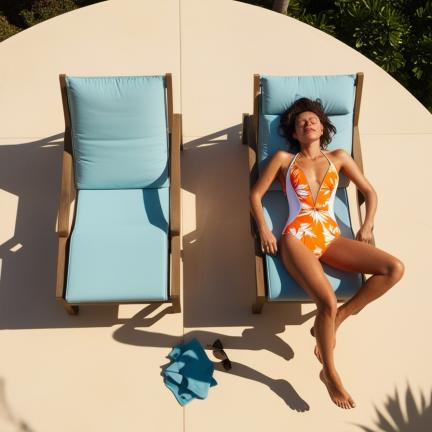empty chair: (56, 74, 181, 315)
guest on chair: (243, 73, 404, 408)
